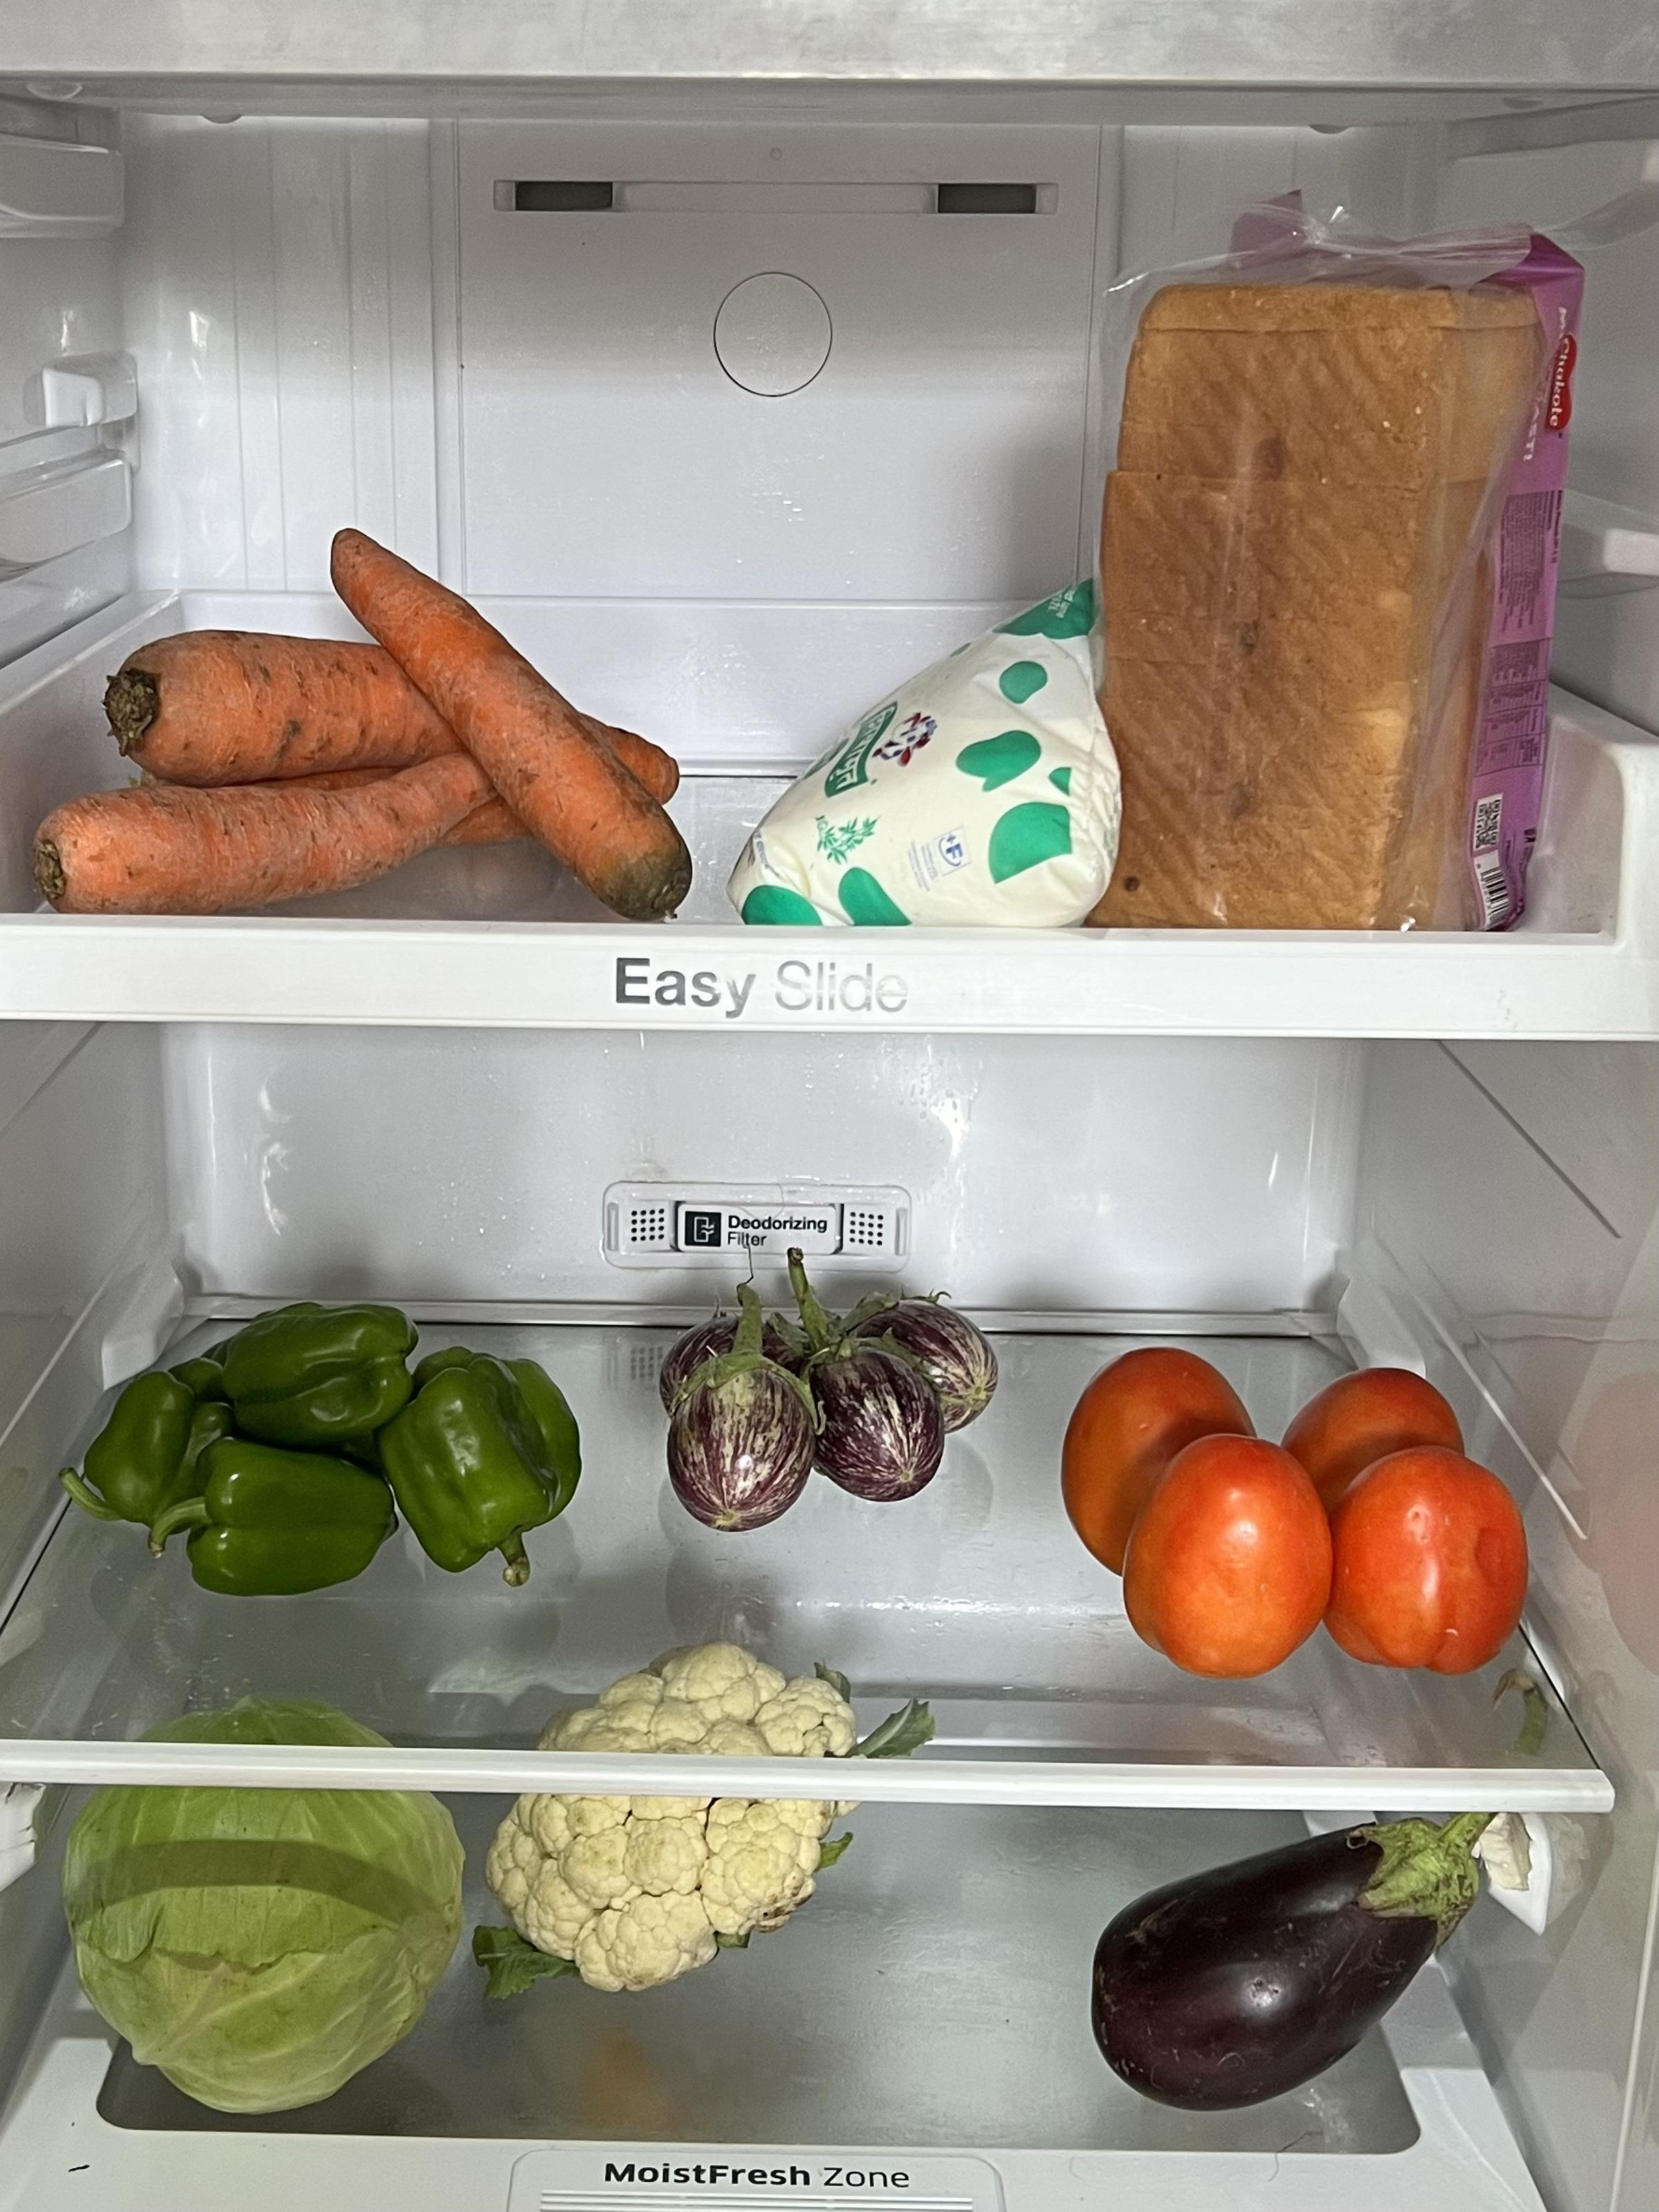bread: (1103, 254, 1596, 929)
bringal: (1087, 1809, 1474, 2113), (653, 1279, 986, 1534)
cabbage: (63, 1696, 448, 2097)
capsicum: (78, 1293, 577, 1593)
carrots: (26, 612, 690, 919)
cauliflower: (498, 1642, 859, 1970)
milk: (718, 621, 1108, 922)
tomato: (1063, 1340, 1530, 1675)
